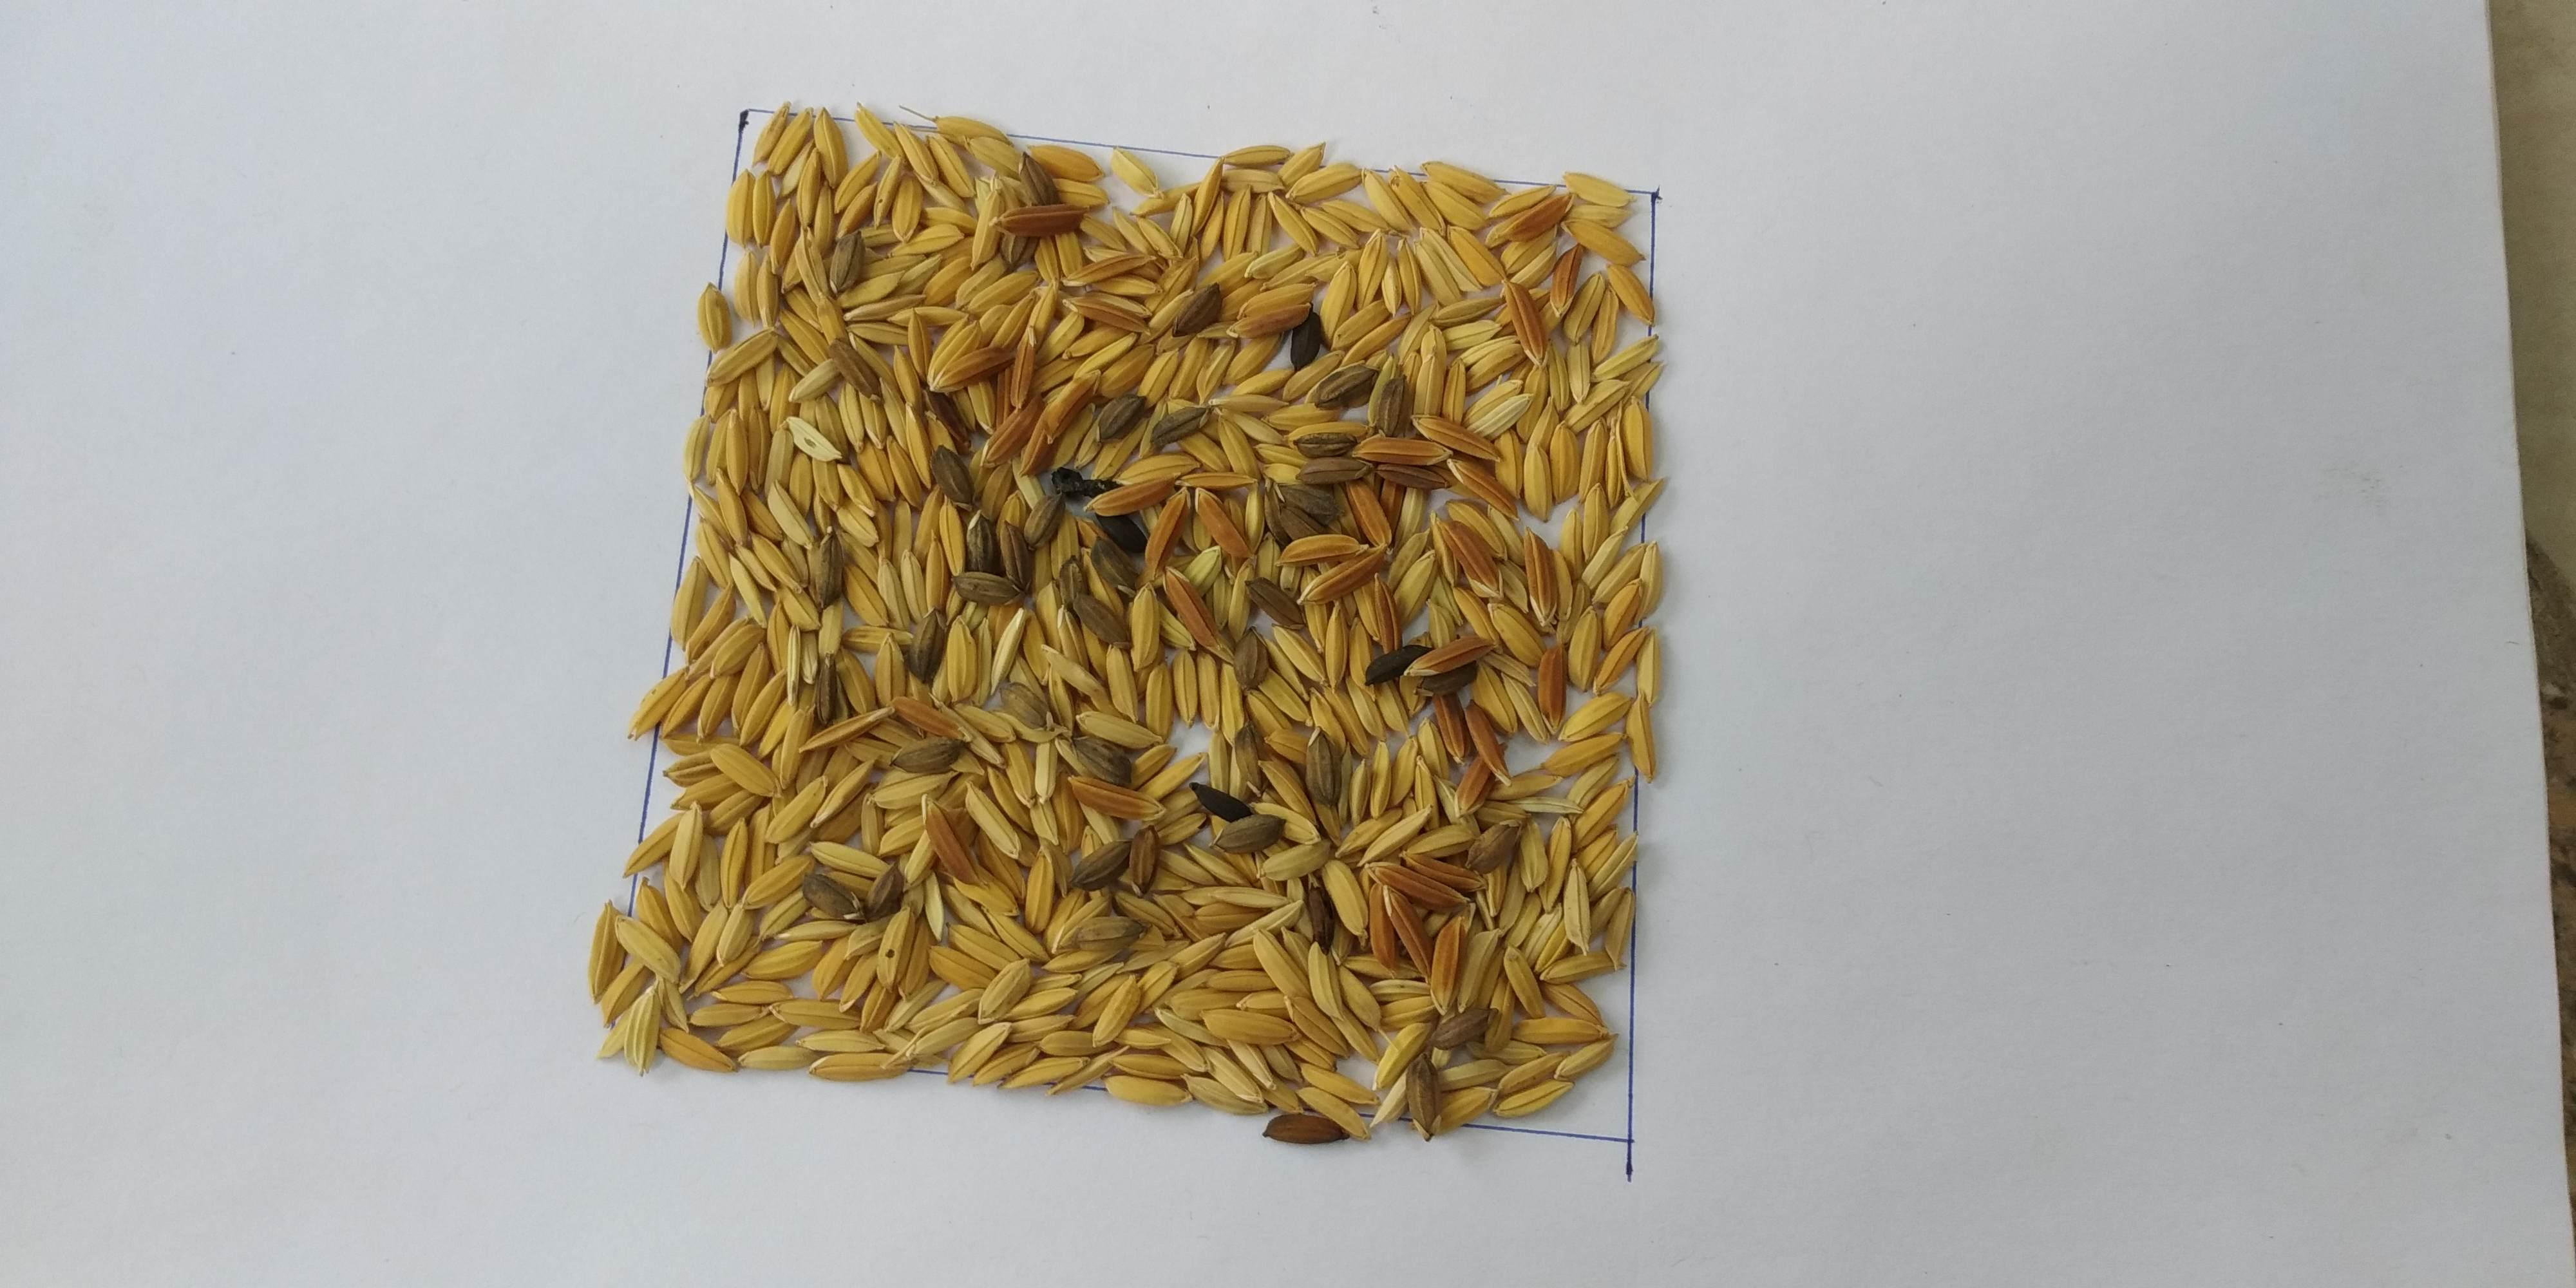impure: (746, 184, 1585, 1055)
